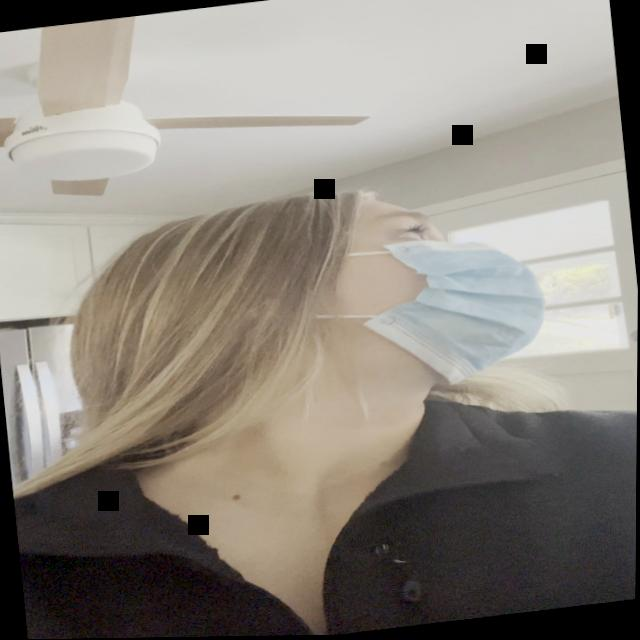Mask: (304, 172, 554, 401)
